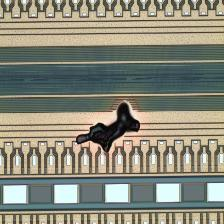PARTICLE: (74, 99, 148, 153)
